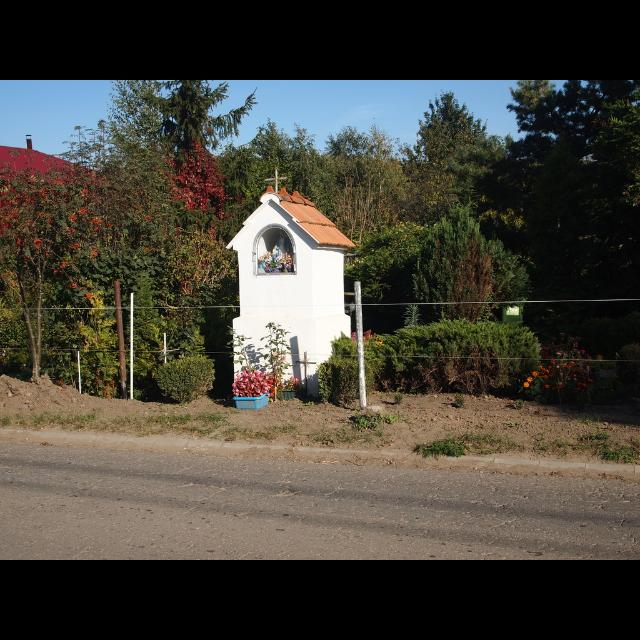Flower: (539, 334, 589, 392), (231, 368, 281, 398), (351, 330, 383, 344), (520, 379, 532, 389), (290, 375, 300, 385), (94, 218, 102, 228), (34, 238, 40, 246), (40, 187, 46, 195), (70, 213, 76, 221), (80, 206, 86, 214), (86, 292, 92, 300), (109, 222, 115, 230), (12, 210, 18, 216), (544, 384, 550, 390), (84, 189, 88, 197), (94, 251, 98, 257), (147, 214, 151, 220), (282, 354, 286, 360), (534, 371, 538, 377), (590, 378, 594, 384), (61, 260, 64, 266), (70, 283, 74, 287), (597, 354, 601, 358)
